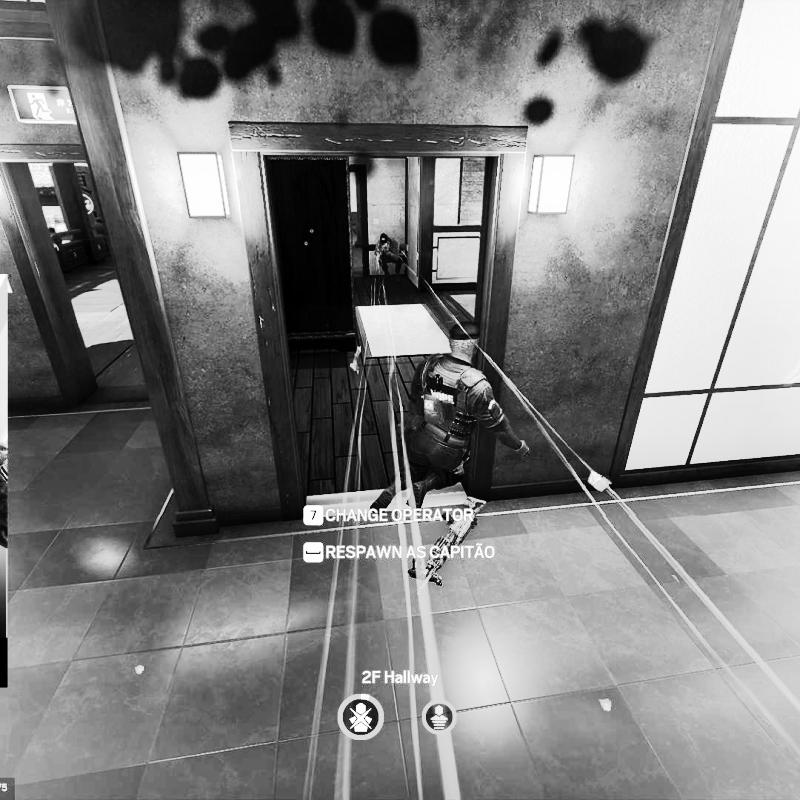Character: (365, 318, 536, 522), (374, 231, 406, 284)
Head: (448, 320, 482, 362), (378, 232, 391, 249)
